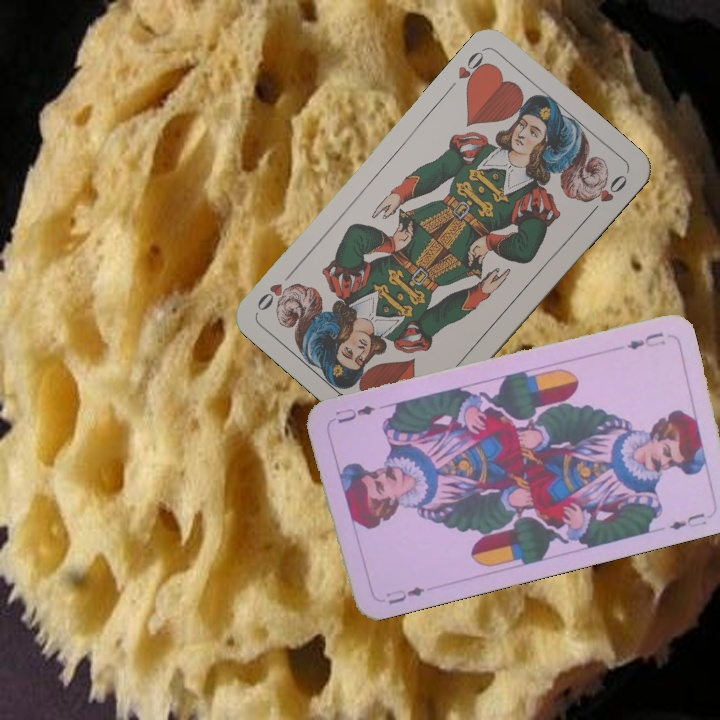EU: (382, 582, 427, 607), (623, 328, 668, 353)
HO: (454, 45, 492, 93)
